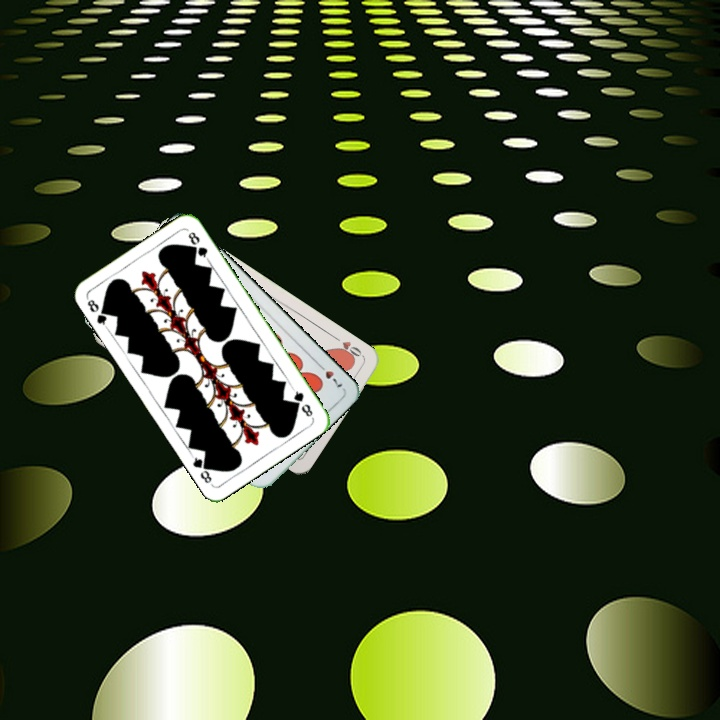G8: (83, 295, 112, 331), (288, 384, 315, 419)
H7: (313, 359, 345, 390)
HO: (329, 332, 366, 362)
